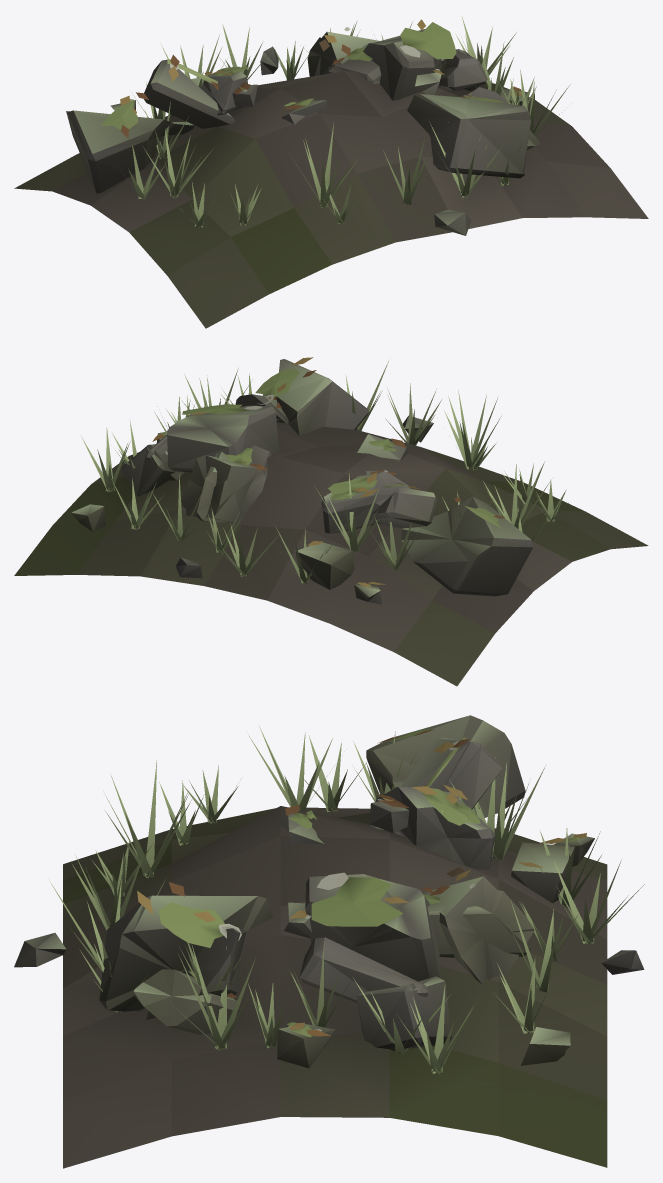
File: vault_rubble.glb
3 views of the same model, one above another, from view 1: azimuth 30°, elevation 25°; view 2: azimuth 150°, elevation 25°; view 3: azimuth 270°, elevation 25° (orthographic). The views are drawn at different scales.
Parts seen in each view (by area): view 1: vault_rubble; view 2: vault_rubble; view 3: vault_rubble.
Boxes of the visible parts, x1,y1,x2,y2 form: vault_rubble: (14,16,648,328); vault_rubble: (14,357,648,686); vault_rubble: (14,715,644,1168).
Size of what is drawn, in the model's own units: 3.88 by 1.19 by 3.38.
